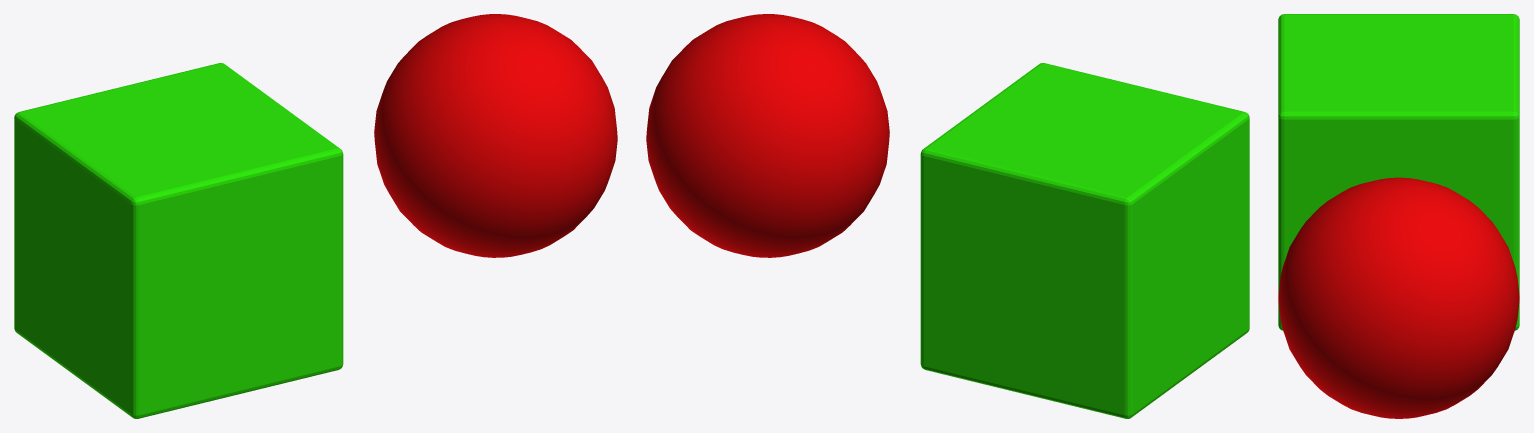
The picture shows the model from 3 angles, left to right: view 1: azimuth 30°, elevation 25°; view 2: azimuth 150°, elevation 25°; view 3: azimuth 270°, elevation 25°; orthographic projection.
Visible parts, largest first — view 1: Cube, Sphere; view 2: Cube, Sphere; view 3: Cube, Sphere.
Boxes of the visible parts, x1,y1,x2,y2 form: Cube: (14, 63, 343, 418); Sphere: (374, 14, 617, 257); Cube: (920, 63, 1249, 418); Sphere: (646, 14, 889, 257); Cube: (1278, 14, 1519, 330); Sphere: (1278, 177, 1519, 418).
Size of what is drawn, in the model's own units: 5 by 2.25 by 2.
